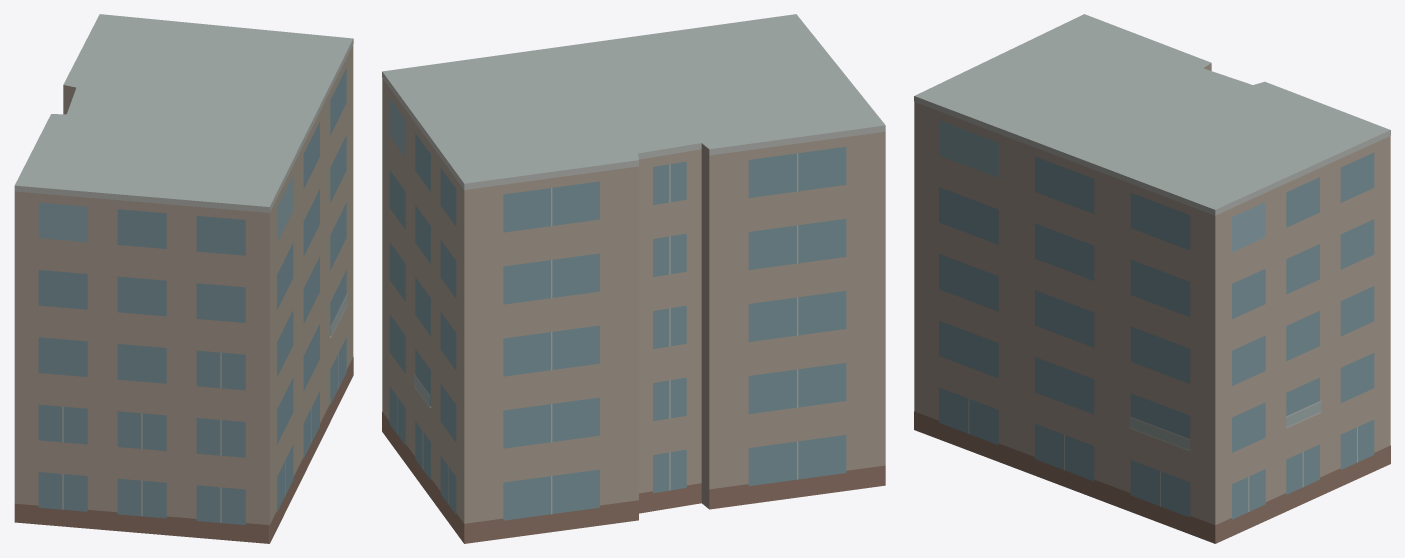
The model's file is survey-upis-32622106.glb.
3 renders of one model, left to right at view 1: azimuth 30°, elevation 25°; view 2: azimuth 150°, elevation 25°; view 3: azimuth 270°, elevation 25°, orthographic. The views are drawn at different scales.
Visible parts, largest first — view 1: survey-upis-32622106.tmp; view 2: survey-upis-32622106.tmp; view 3: survey-upis-32622106.tmp.
Part boxes in pixels (x1=…): survey-upis-32622106.tmp: x1=14, y1=14, x2=353, y2=543; survey-upis-32622106.tmp: x1=382, y1=14, x2=885, y2=543; survey-upis-32622106.tmp: x1=914, y1=14, x2=1390, y2=543.
Size of the model in its own units: 17.75 by 14.1 by 18.24.
